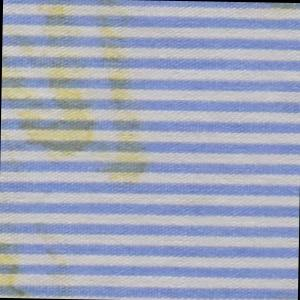Stain: (1, 1, 160, 193), (1, 236, 29, 299), (255, 2, 300, 31), (278, 294, 298, 300)
